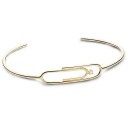Metal: (39, 63, 104, 82)
